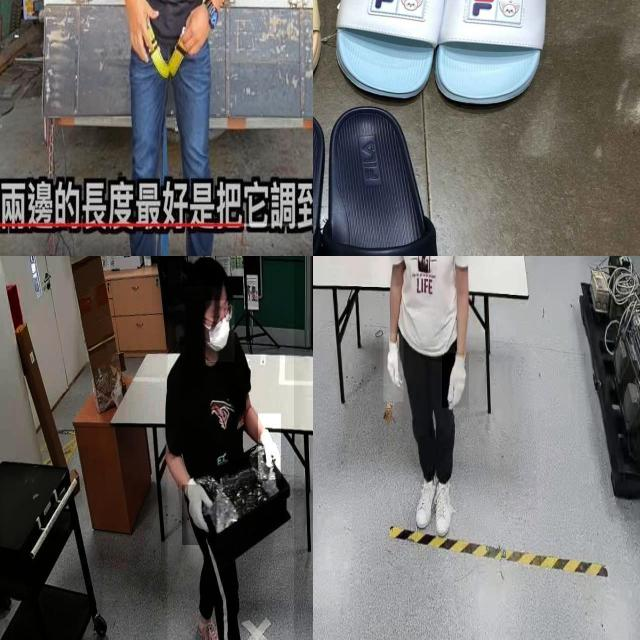Harness: (131, 0, 211, 81)
Sandals: (313, 94, 502, 256), (331, 0, 571, 125)
face_mask: (206, 300, 234, 362)
hand_glove: (182, 484, 217, 546), (442, 353, 470, 409), (258, 414, 281, 479), (384, 333, 404, 403)
head_nohelmet: (183, 256, 228, 287)
person: (167, 258, 294, 640), (383, 256, 480, 551)
shoes: (433, 470, 457, 532), (415, 469, 435, 530), (193, 605, 225, 640)
